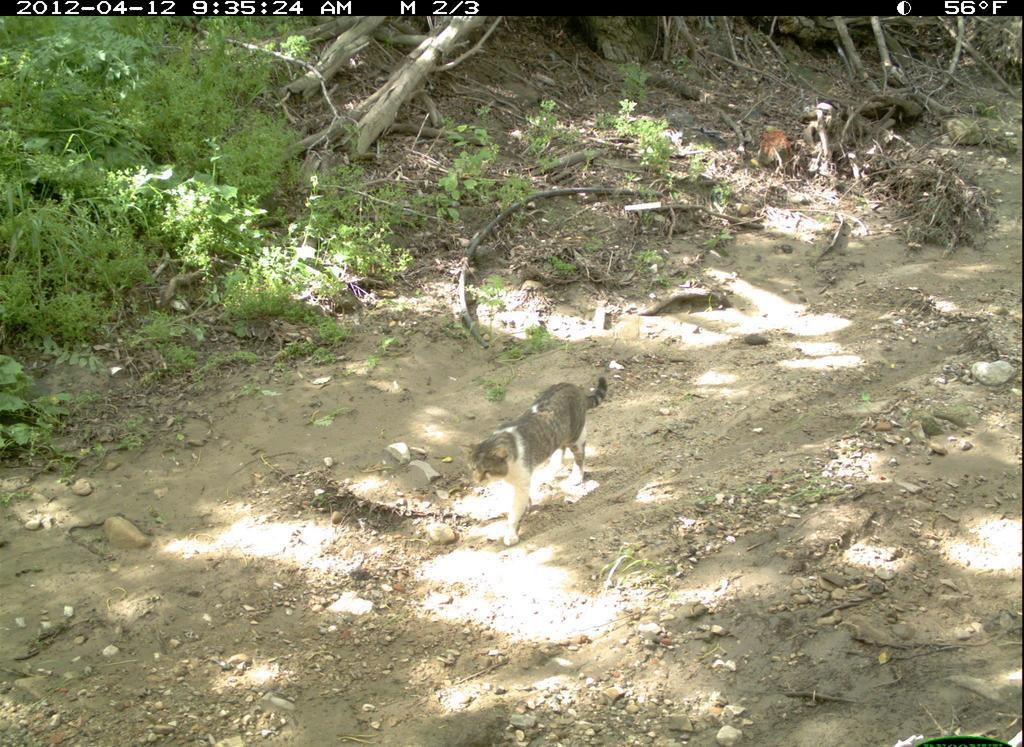cat: (461, 372, 632, 556)
